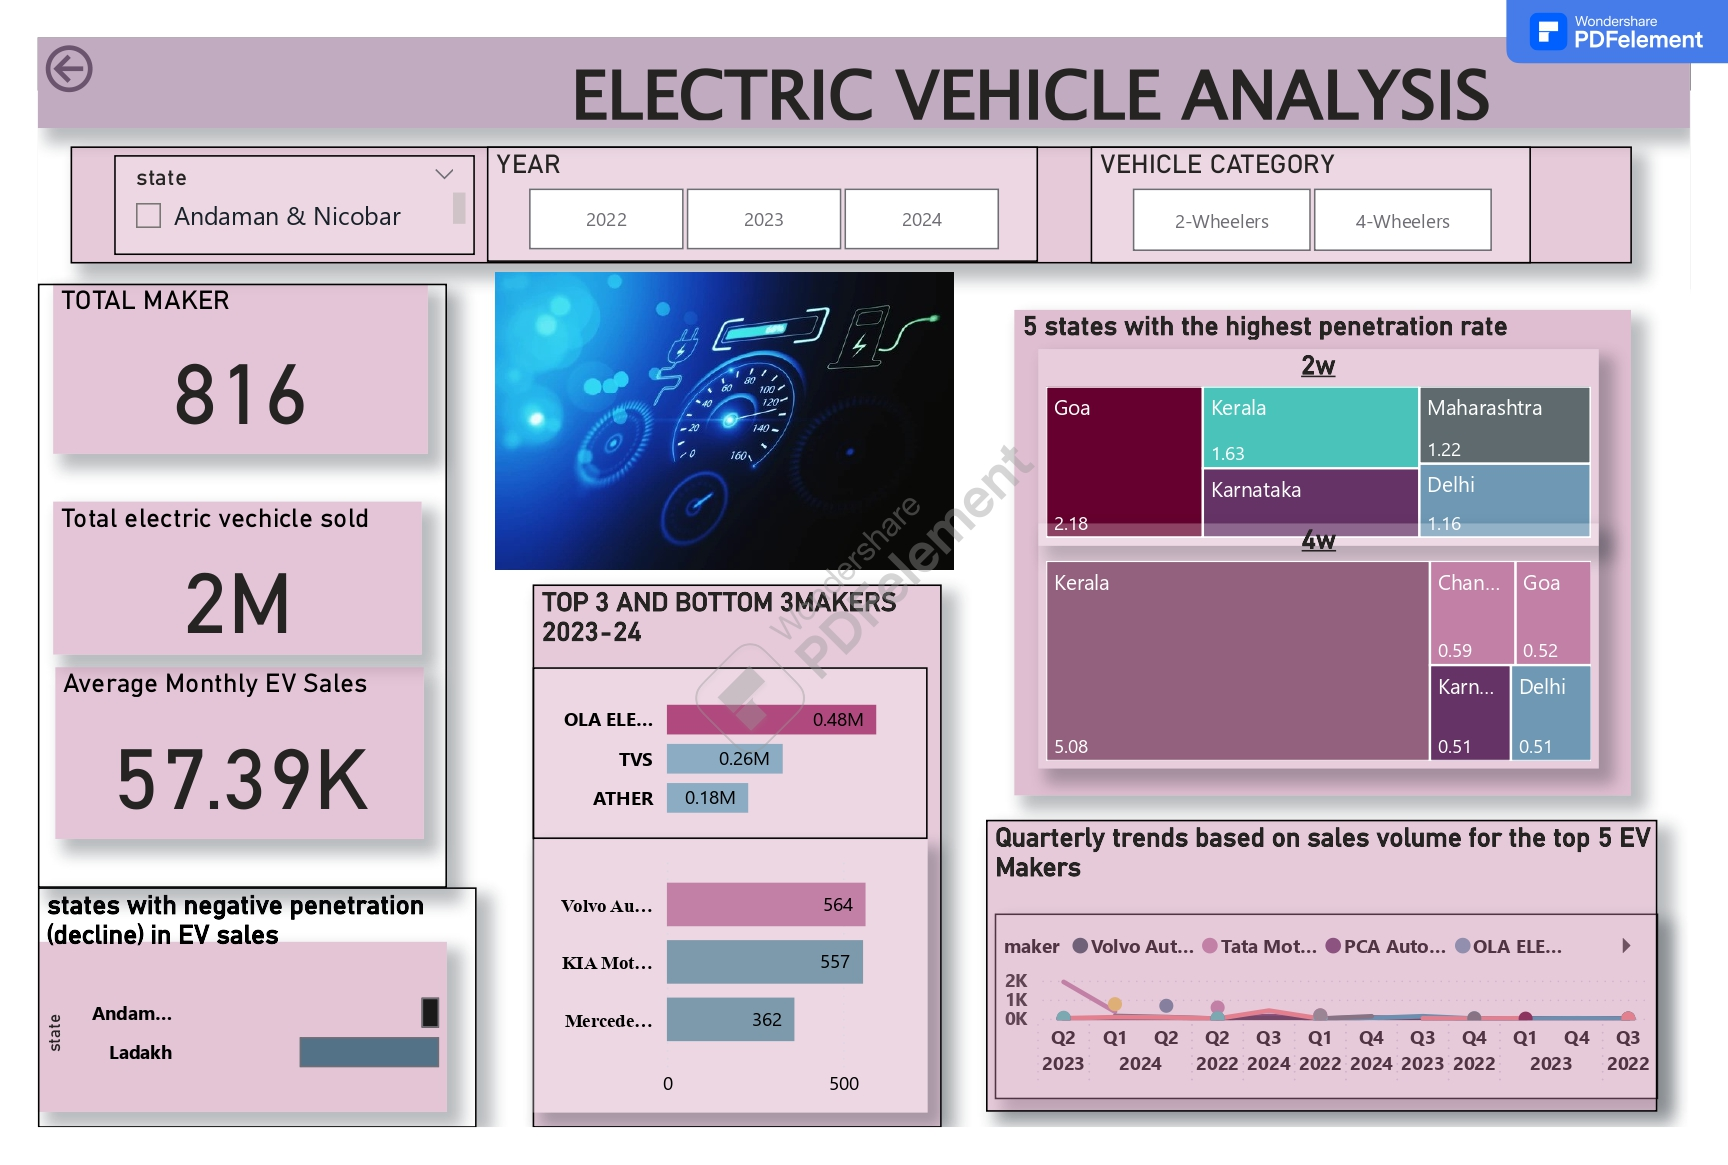

Layout of this report page (visuals, bound fields, positions):
{"tool":"powerbi","page":{"name":"ELECTRIC VEHICLE ANAYSIS 1","canvas":[1058,698],"ordinal":0},"visuals":[{"type":"actionButton","box":[0,0,100,40],"z":0},{"type":"textbox","box":[0,0,1280.2,57.6],"z":1000},{"type":"textbox","title":"TOP 3 AND BOTTOM 3MAKERS 2023-24","box":[317.3,350.7,262,347.8],"z":2000},{"type":"clusteredBarChart","fields":{"Category":["merge_sales_by_makers.maker"],"Y":["Sum(merge_sales_by_makers.electric_vehicles_sold)"]},"box":[316.9,403.4,252.7,110.3],"z":3000},{"type":"clusteredBarChart","fields":{"Category":["merge_sales_by_makers.maker"],"Y":["Sum(merge_sales_by_makers.electric_vehicles_sold)"]},"box":[316.9,513.7,252.7,174.5],"z":4000},{"type":"textbox","title":" 5 states with the highest penetration rate ","box":[625.4,174.5,395.1,311.3],"z":5000},{"type":"treemap","title":"2w","fields":{"Group":["merge_vechicle_sales_by state.state"],"Values":["Sum(merge_vechicle_sales_by state.Penetration_Rate_2W)"]},"box":[640.8,199.6,358.8,125.6],"z":6000},{"type":"treemap","title":"4w","fields":{"Group":["merge_vechicle_sales_by state.state"],"Values":["Sum(merge_vechicle_sales_by state.Penetration_Rate_4W)"]},"box":[640.3,311.4,359.5,157.2],"z":7000},{"type":"clusteredBarChart","fields":{"Category":["merge_vechicle_sales_by state.state"],"Y":["Sum(merge_vechicle_sales_by state.Change_in_Penetration_Rate)"]},"box":[0,579.2,262,109.1],"z":8000},{"type":"textbox","title":"states with negative penetration (decline) in EV sales ","box":[0,544.4,280.6,153.6],"z":9000},{"type":"lineChart","fields":{"Category":["Merge1.fiscal_year","Merge1.quarter"],"Series":["Merge1.maker"],"Y":["Merge1.TotalElectricVehiclesSold"]},"box":[612.7,561.7,424.9,119.3],"z":10000},{"type":"textbox","title":"Quarterly trends based on sales volume for the top 5 EV Makers","box":[607.3,501.2,430,187.1],"z":11000},{"type":"textbox","box":[20.9,69.8,999.5,75.4],"z":12000},{"type":"slicer","fields":{"Values":["merge_vechicle_sales_by state.state"]},"box":[49.5,75.7,231.4,64],"z":13000},{"type":"slicer","title":"VEHICLE CATEGORY","fields":{"Values":["merge_sales_by_makers.vehicle_category"]},"box":[674.3,69.8,282,75.4],"z":14000},{"type":"card","title":"TOTAL MAKER","fields":{"Values":["CountNonNull(electric_vehicle_sales_by_makers.maker)"]},"box":[9.8,157.7,240.1,108.9],"z":15000},{"type":"card","title":"Total electric vechicle sold","fields":{"Values":["Sum(merge_vechicle_sales_by state.electric_vehicles_sold)"]},"box":[9.8,297.3,235.9,97.7],"z":16000},{"type":"textbox","box":[0,157.7,262.4,386.7],"z":17000},{"type":"card","title":"Average Monthly EV Sales","fields":{"Values":["Merge1.Average_Monthly_EV_Sales"]},"box":[11.2,403.4,235.9,110.3],"z":18000},{"type":"slicer","title":"YEAR","fields":{"Values":["merge_sales_by_makers.fiscal_year"]},"box":[287.6,69.8,353.2,74],"z":19000},{"type":"image","box":[287.6,145.2,304.3,201],"z":20000}]}

Visuals, with their boxes in screenshot pixels (x1, y1, x2, y2):
actionButton: (37, 37, 194, 100)
textbox: (37, 37, 1691, 127)
"TOP 3 AND BOTTOM 3MAKERS 2023-24" textbox: (533, 585, 943, 1128)
clusteredBarChart - merge_sales_by_makers.maker x Sum(merge_sales_by_makers.electric_vehicles_sold): (533, 667, 927, 840)
clusteredBarChart - merge_sales_by_makers.maker x Sum(merge_sales_by_makers.electric_vehicles_sold): (533, 840, 927, 1112)
" 5 states with the highest penetration rate " textbox: (1015, 310, 1632, 796)
"2w" treemap: (1039, 349, 1599, 545)
"4w" treemap: (1038, 524, 1600, 769)
clusteredBarChart - merge_vechicle_sales_by state.state x Sum(merge_vechicle_sales_by state.Change_in_Penetration_Rate): (37, 942, 447, 1112)
"states with negative penetration (decline) in EV sales " textbox: (37, 888, 476, 1128)
lineChart - Merge1.fiscal_year x Merge1.quarter: (995, 915, 1659, 1101)
"Quarterly trends based on sales volume for the top 5 EV Makers" textbox: (986, 820, 1658, 1112)
textbox: (70, 146, 1632, 264)
slicer - merge_vechicle_sales_by state.state: (115, 156, 476, 256)
"VEHICLE CATEGORY" slicer: (1091, 146, 1532, 264)
"TOTAL MAKER" card: (53, 284, 428, 454)
"Total electric vechicle sold" card: (53, 502, 421, 654)
textbox: (37, 284, 447, 888)
"Average Monthly EV Sales" card: (55, 667, 424, 840)
"YEAR" slicer: (487, 146, 1039, 262)
image: (487, 264, 962, 578)
